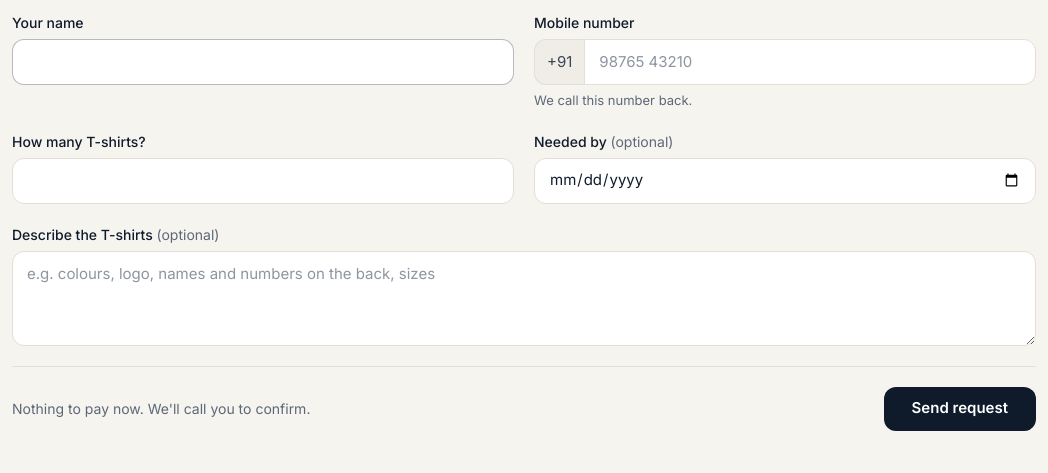
Scenario: EnquiryForm › custom T-shirts need a number or a description
Type "Anitha" into the field labelled "Your name". click: point(263, 62)
box: x1=12 y1=39 x2=514 y2=85
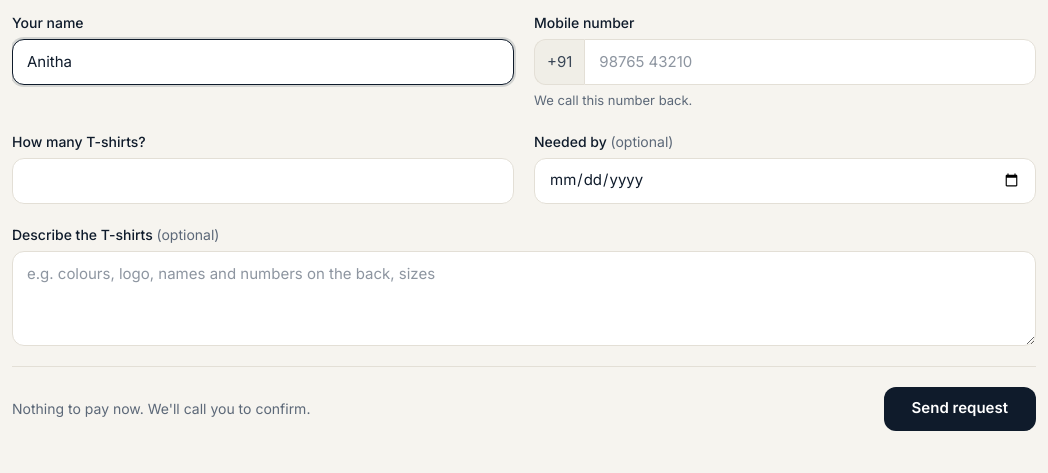
Type "9876543210" into the field labelled "Mobile number". click: point(810, 62)
box: x1=584 y1=39 x2=1036 y2=85
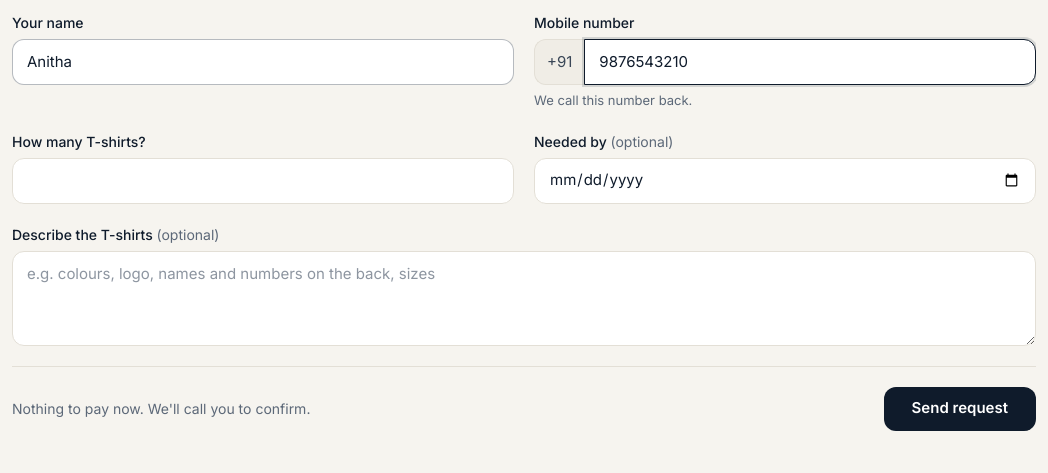
Click the button "Send request". click: point(960, 409)
box: x1=884 y1=387 x2=1036 y2=431
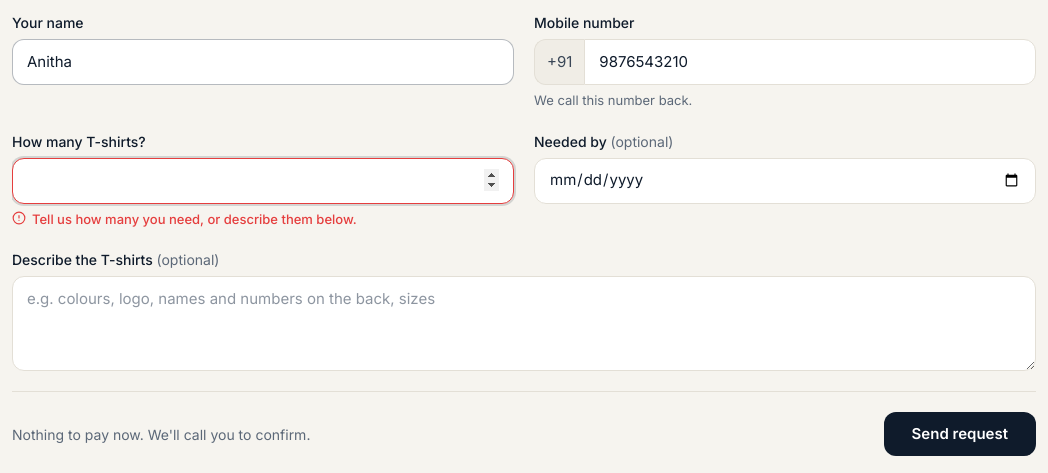
Type "30" into the number field labelled "How many T-shirts?". click: point(263, 180)
box: x1=12 y1=158 x2=514 y2=204
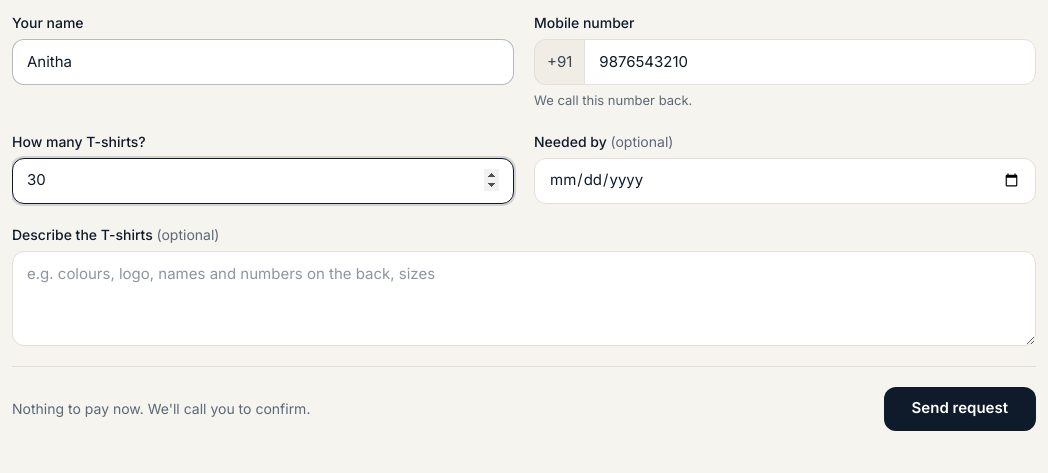
Click the button "Send request". click: point(960, 409)
box: x1=884 y1=387 x2=1036 y2=431
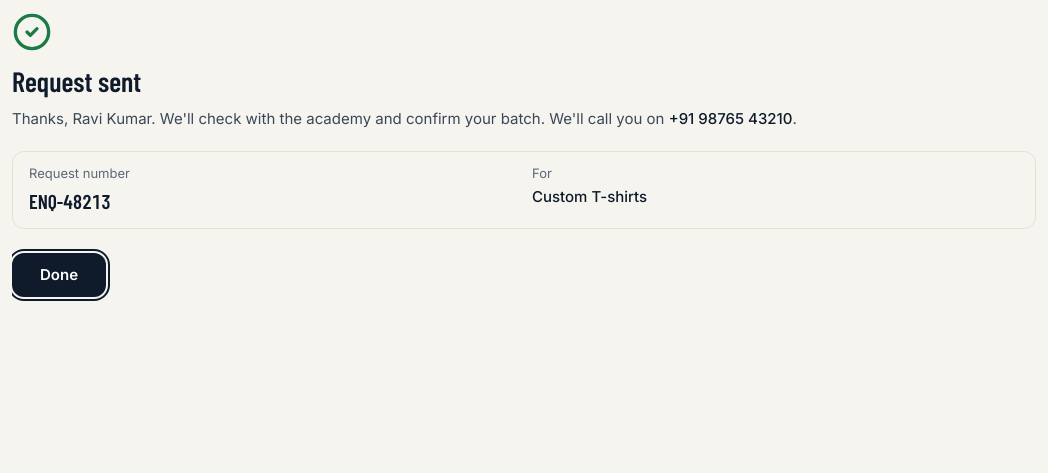
Expected: the text "ENQ-48213" is shown, x1=29 y1=189 x2=111 y2=213
